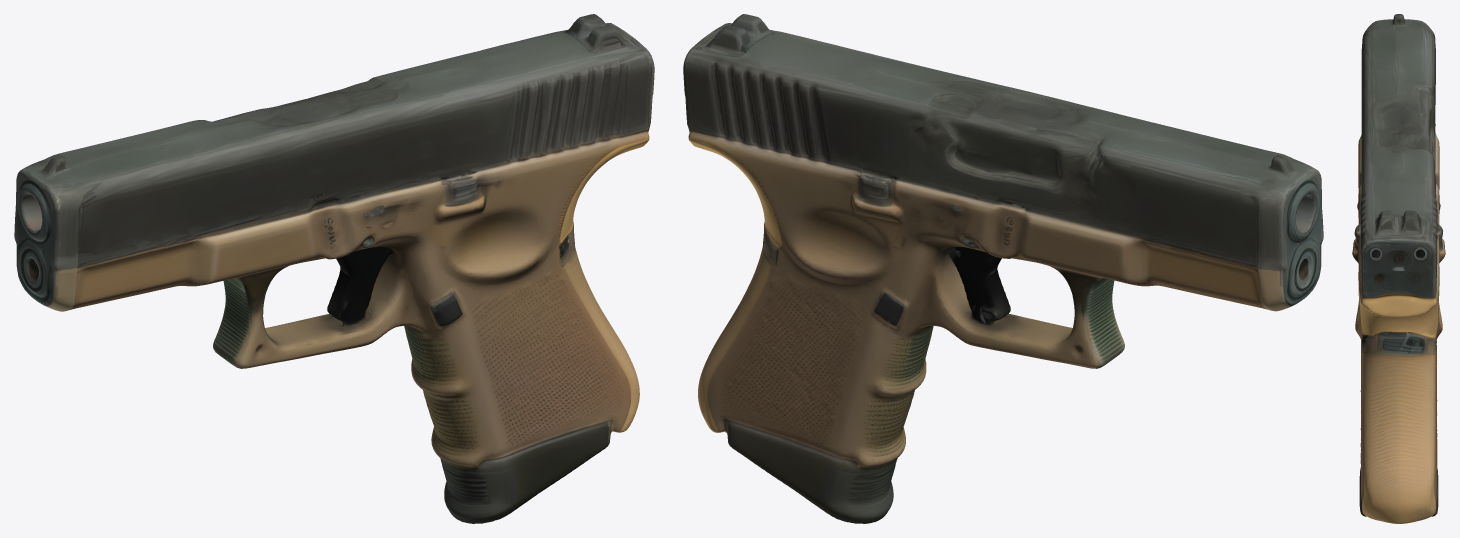
The model's file is glock.glb.
The picture shows the model from 3 angles, left to right: view 1: azimuth 30°, elevation 25°; view 2: azimuth 150°, elevation 25°; view 3: azimuth 270°, elevation 25°; orthographic projection. The views are drawn at different scales.
Parts seen in each view (by area): view 1: Object_2; view 2: Object_2; view 3: Object_2.
Part boxes in pixels (x1,y1,x2,y2): Object_2: (14,14,654,523); Object_2: (683,14,1323,523); Object_2: (1352,14,1445,523).
Size of the model in its own units: 1 by 0.7356 by 0.1765.
Materials: 1 (1 with a texture image).
